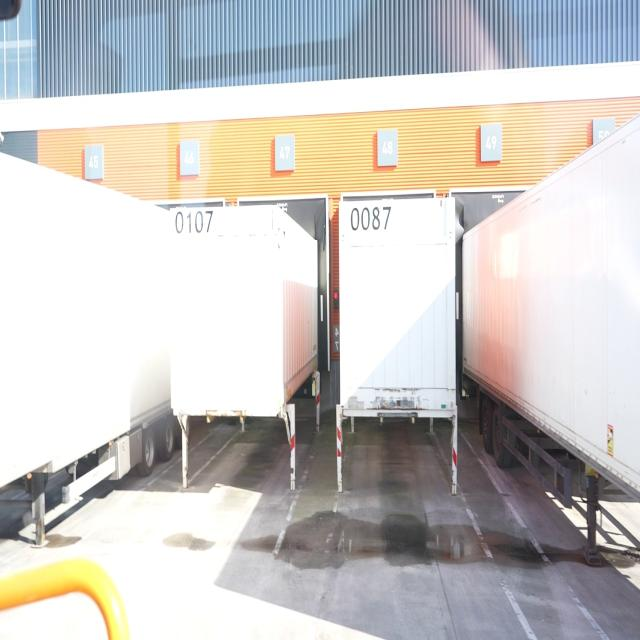Code: (346, 199, 396, 240), (172, 208, 218, 237)
